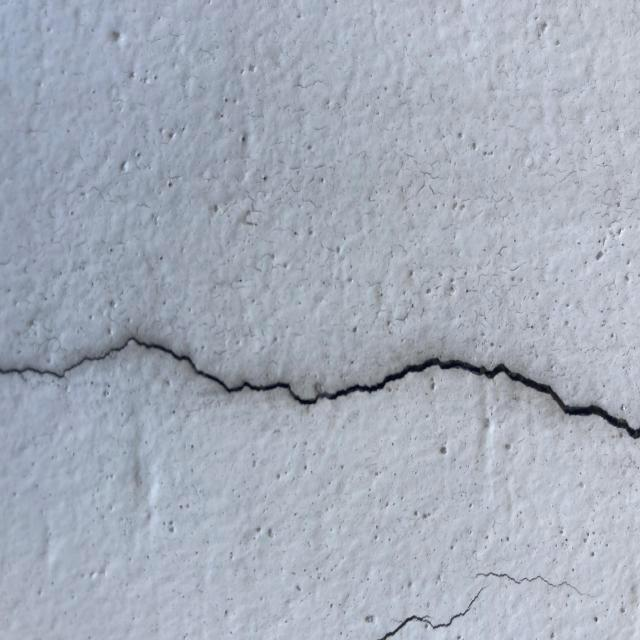SurfaceCrack: (349, 556, 638, 638)
